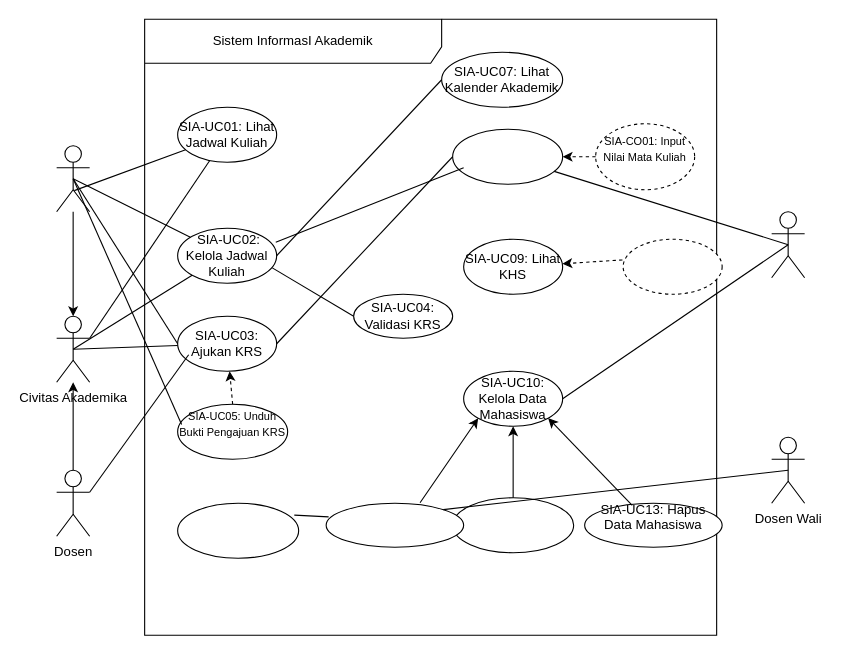
The diagram is 856 pixels wide and 655 high, and some of its shapes have lost their labels. Here are the shapes that lost their labels. From the top down, the box of each, then its label:
(452, 128, 563, 184): SIA-UC08: Input Nilai Mata Kuliah
(56, 145, 90, 212): Mahasiswa
(771, 211, 805, 278): Admin Akademik
(622, 238, 722, 294): SIA-CO02: Lihat KHS
(177, 502, 299, 558): SIA-UC06: Proses Keputusan KRS
(325, 502, 464, 547): SIA-UC11: Tambah Data Mahasiswa
(452, 497, 574, 553): SIA-UC12: Ubah Data Mahasiswa
